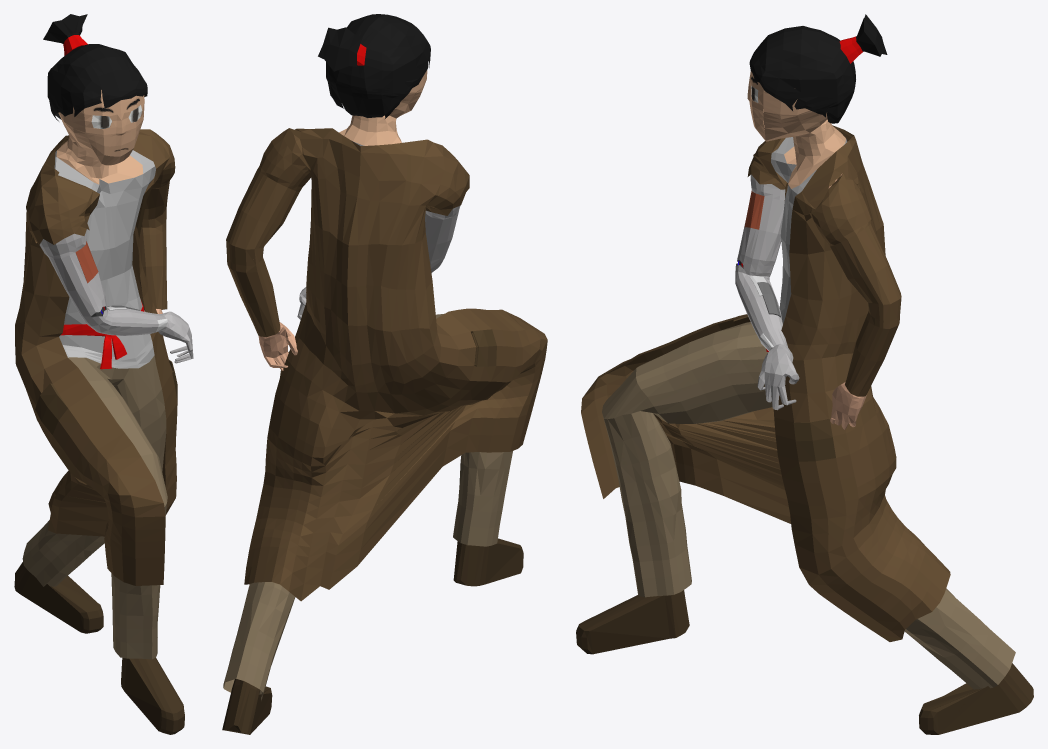
Rendered from One_RB_000002.obj.
The picture shows the model from 3 angles, left to right: view 1: azimuth 30°, elevation 25°; view 2: azimuth 150°, elevation 25°; view 3: azimuth 270°, elevation 25°; orthographic projection. The views are drawn at different scales.
Visible parts, largest first — view 1: Hair_Cube.004; view 2: Hair_Cube.004; view 3: Hair_Cube.004.
Part boxes in pixels (x1,y1,x2,y2): Hair_Cube.004: (14, 14, 193, 734); Hair_Cube.004: (222, 14, 547, 734); Hair_Cube.004: (576, 14, 1033, 734).
Size of the model in its own units: 1.09 by 3.61 by 2.18.
